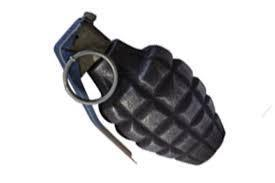Grenade: (51, 11, 226, 166)
